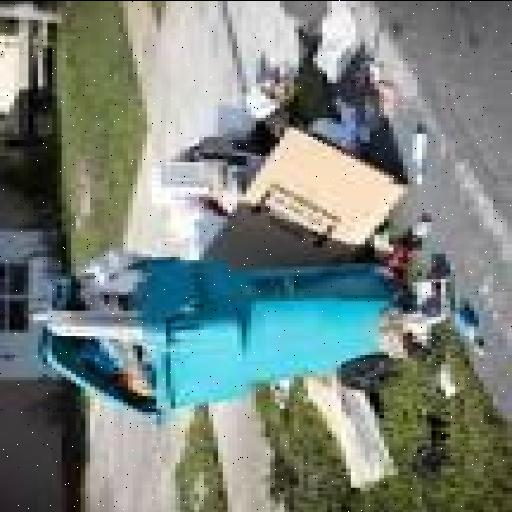poubelle_pleine: (26, 204, 402, 422)
